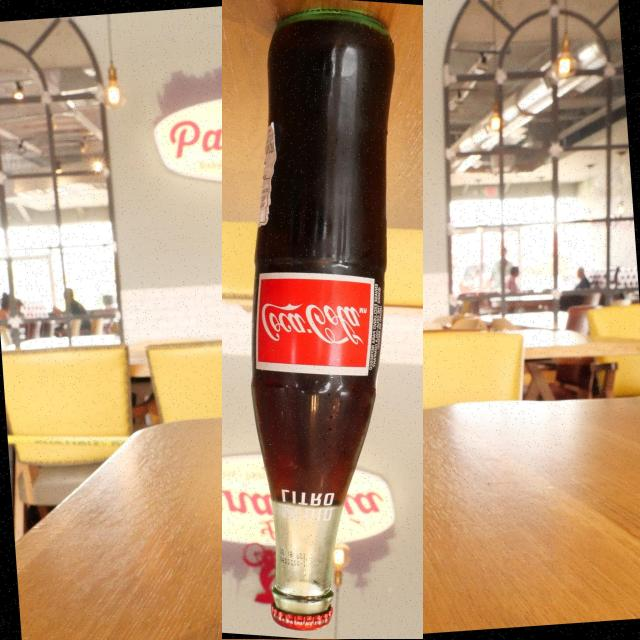coca-cola: (222, 0, 423, 639)
